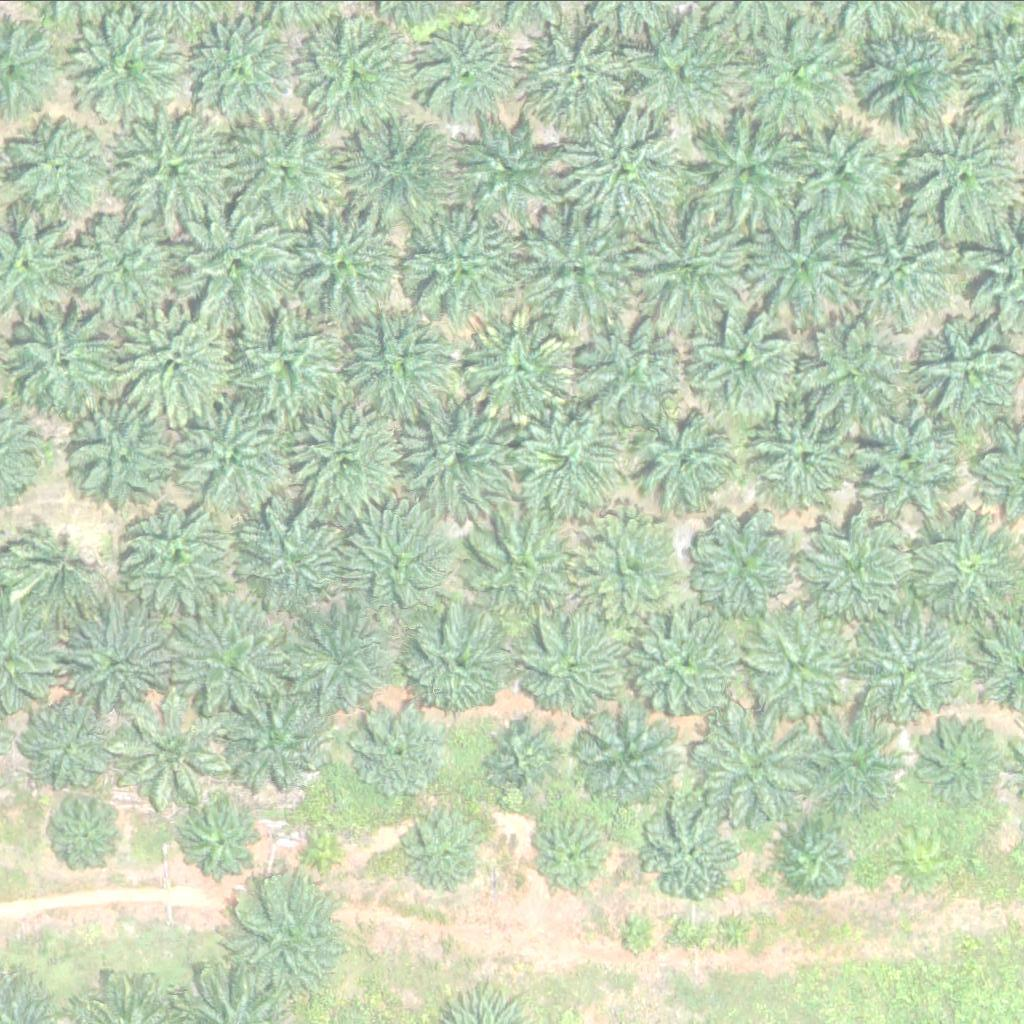Kelapa_Sawit: (59, 597, 185, 722), (120, 489, 246, 614), (65, 392, 191, 517), (120, 283, 246, 408), (178, 4, 304, 129), (515, 16, 641, 141), (626, 8, 752, 133), (561, 112, 687, 237), (331, 108, 457, 233), (224, 112, 350, 237), (116, 105, 242, 230), (174, 200, 300, 325), (277, 204, 403, 329), (396, 204, 522, 329), (516, 206, 642, 331), (631, 216, 757, 341), (166, 595, 292, 720), (690, 706, 816, 831), (739, 200, 865, 325), (833, 202, 959, 327), (678, 110, 804, 235), (777, 106, 903, 231), (733, 18, 859, 143), (223, 870, 348, 995), (232, 304, 346, 417), (340, 304, 454, 417), (113, 695, 226, 808), (69, 204, 182, 317), (466, 509, 579, 622), (572, 515, 685, 628), (633, 603, 746, 716), (517, 613, 630, 726), (401, 603, 514, 716), (283, 598, 396, 711), (683, 505, 796, 618), (753, 397, 866, 510), (798, 510, 911, 623), (849, 412, 962, 525), (853, 15, 966, 128), (5, 509, 119, 621), (292, 402, 406, 514), (181, 398, 295, 510), (800, 319, 914, 431), (305, 17, 418, 129), (462, 311, 575, 423), (578, 312, 691, 424), (631, 405, 744, 517), (507, 405, 620, 517), (405, 398, 518, 510), (239, 506, 352, 618), (340, 507, 453, 619), (222, 679, 335, 791), (687, 304, 800, 416), (749, 606, 862, 718), (800, 705, 913, 817), (856, 610, 969, 722), (25, 695, 126, 795), (9, 120, 110, 220), (414, 21, 515, 121), (351, 698, 452, 798), (582, 706, 683, 806), (455, 119, 555, 219), (645, 802, 745, 902), (403, 805, 491, 893), (531, 807, 619, 895), (179, 795, 267, 883), (914, 718, 1002, 805), (779, 821, 855, 896), (55, 795, 130, 870), (486, 719, 561, 794), (302, 822, 340, 860), (622, 915, 660, 952)
